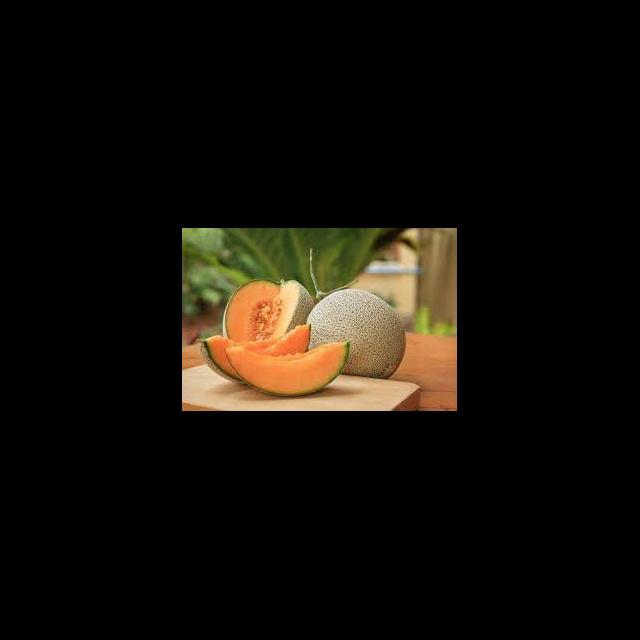Hami Melon: (308, 290, 406, 380), (226, 343, 350, 397), (201, 325, 311, 383), (225, 280, 313, 342)
